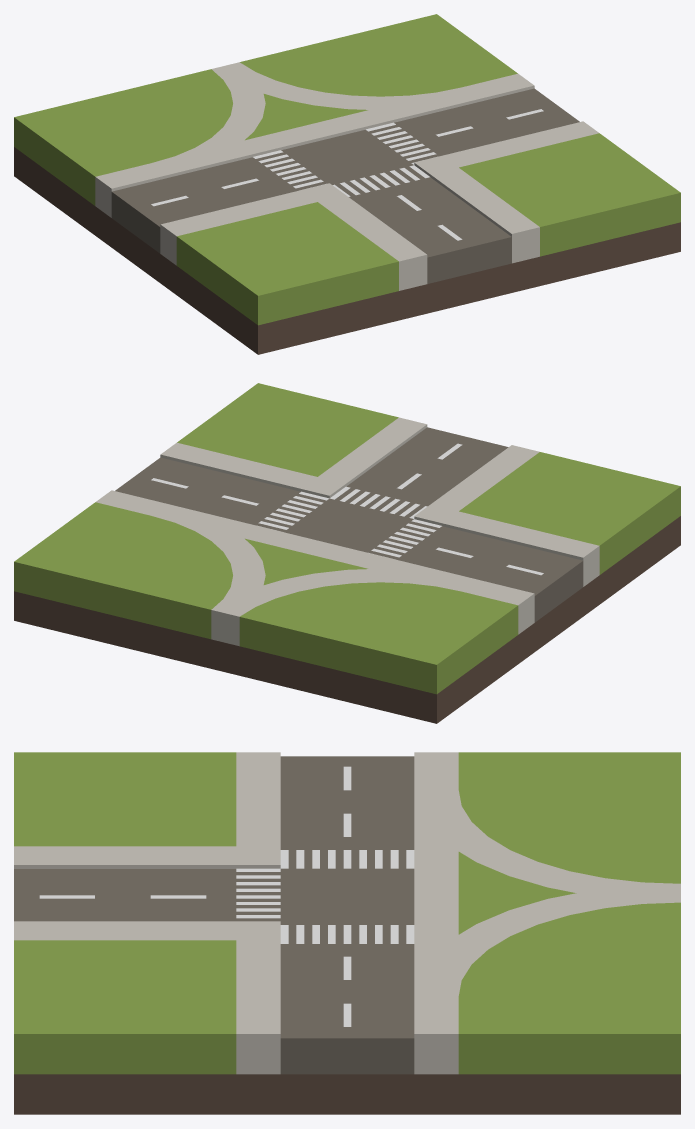
The model's file is road-tile-crossing-T-sidewalk.fbx.
3 renders of one model, top to bottom at view 1: azimuth 30°, elevation 25°; view 2: azimuth 150°, elevation 25°; view 3: azimuth 270°, elevation 25°, orthographic. The views are drawn at different scales.
Parts seen in each view (by area): view 1: road-tile-crossing-T-sidewalk; view 2: road-tile-crossing-T-sidewalk; view 3: road-tile-crossing-T-sidewalk.
Part boxes in pixels (x1=…): road-tile-crossing-T-sidewalk: x1=14, y1=14, x2=680, y2=354; road-tile-crossing-T-sidewalk: x1=14, y1=383, x2=680, y2=723; road-tile-crossing-T-sidewalk: x1=14, y1=752, x2=680, y2=1114.
Size of the model in its own units: 3000 by 400 by 3000.
